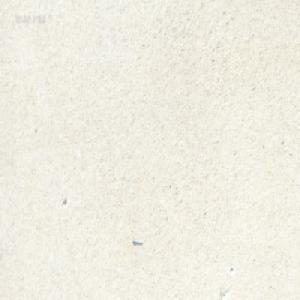Nail: (132, 238, 143, 246)
